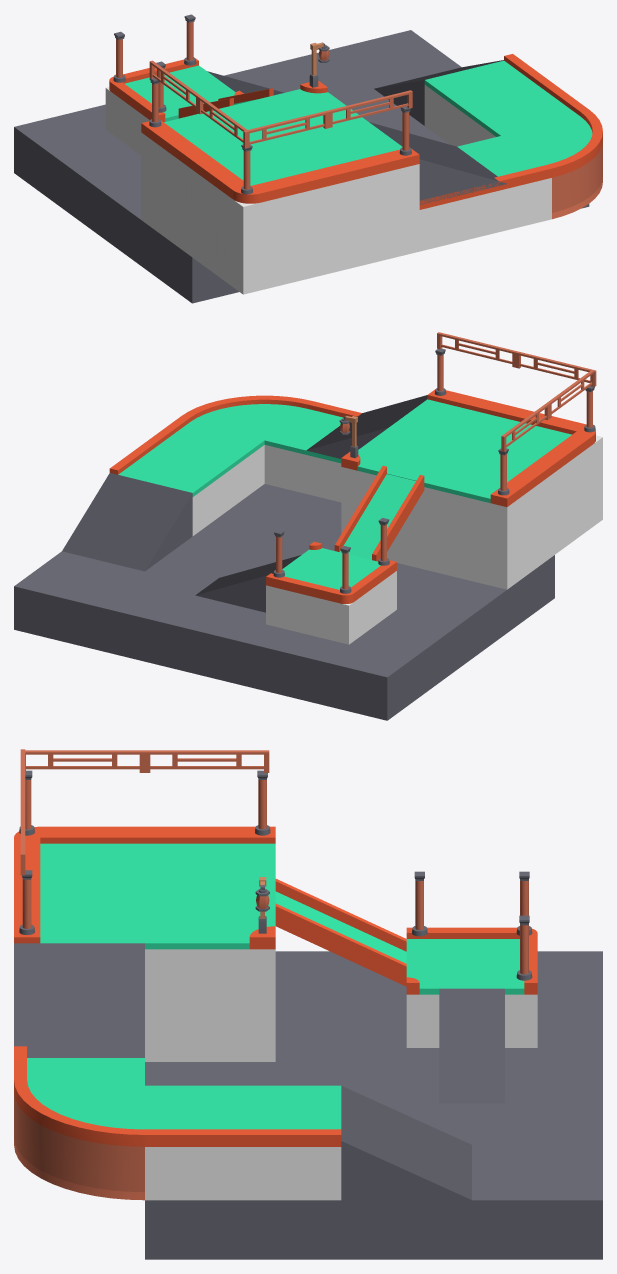
The model's file is map.obj.
3 renders of one model, top to bottom at view 1: azimuth 30°, elevation 25°; view 2: azimuth 150°, elevation 25°; view 3: azimuth 270°, elevation 25°, orthographic. The views are drawn at different scales.
Bounding box in the file's own units: 9 × 4.45 × 9.
